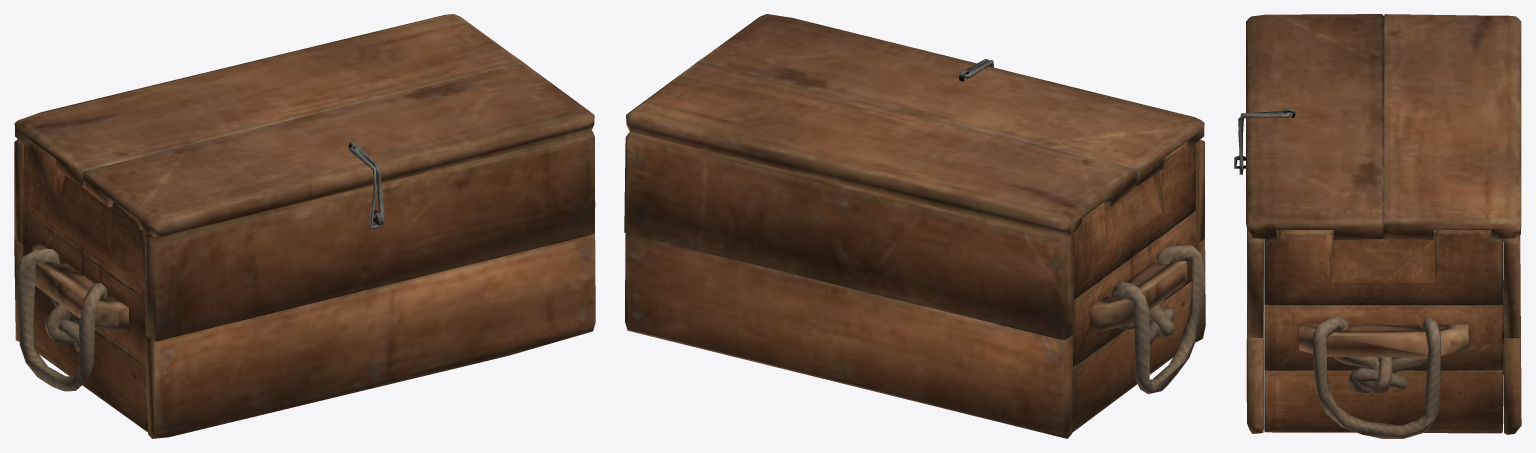
Rendered from wooden_crate_01.glb.
The picture shows the model from 3 angles, left to right: view 1: azimuth 30°, elevation 25°; view 2: azimuth 150°, elevation 25°; view 3: azimuth 270°, elevation 25°; orthographic projection. The views are drawn at different scales.
Visible parts, largest first — view 1: wooden_crate_01_lid; view 2: wooden_crate_01_lid; view 3: wooden_crate_01_lid.
Part boxes in pixels (x1,y1,x2,y2): wooden_crate_01_lid: [14, 14, 595, 438]; wooden_crate_01_lid: [624, 14, 1205, 438]; wooden_crate_01_lid: [1234, 14, 1521, 438].
Bounding box in the file's own units: 0.8245 × 0.3495 × 0.407.
1 material, 1 textured.
